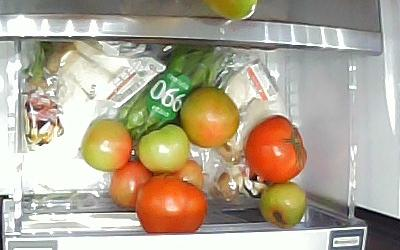tomato: (243, 115, 307, 183), (135, 175, 208, 234), (179, 87, 241, 149), (80, 118, 133, 172), (137, 124, 190, 175), (258, 183, 307, 229), (109, 161, 153, 208), (175, 160, 204, 195)
